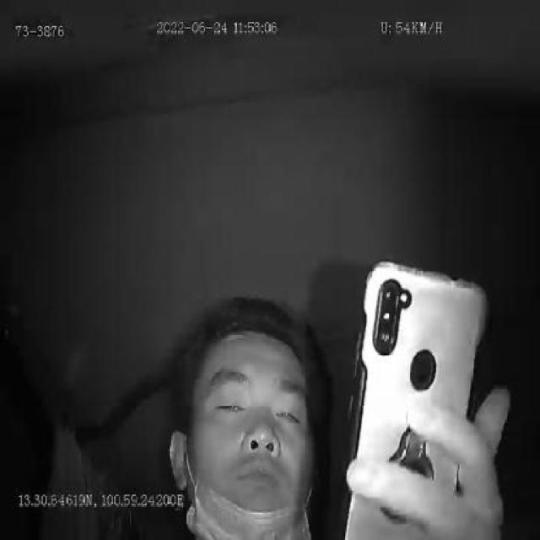phone: (345, 255, 491, 540)
